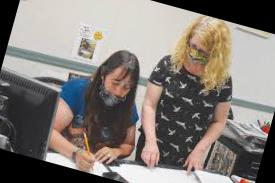mask_weared_incorrect: (102, 75, 133, 107)
with_mask: (185, 39, 211, 65)
